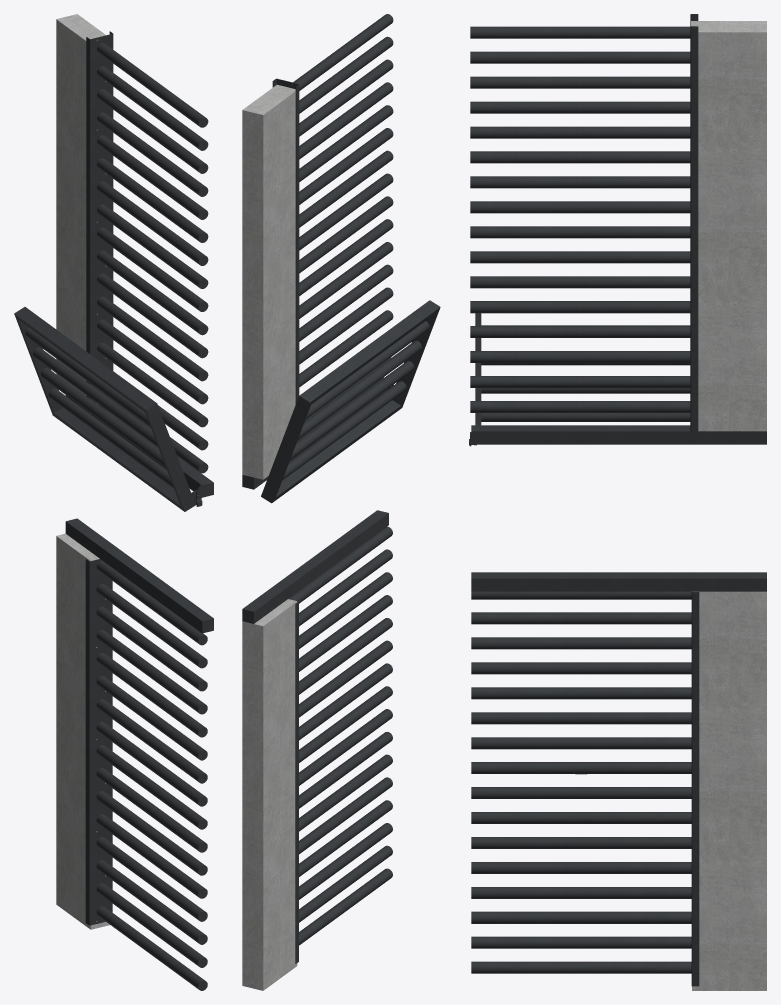
The model's file is puerta-zona-generador-abierta-mwvp69l8.glb.
The picture shows the model from 3 angles, left to right: view 1: azimuth 30°, elevation 25°; view 2: azimuth 150°, elevation 25°; view 3: azimuth 270°, elevation 25°; orthographic projection. The views are drawn at different scales.
Visible parts, largest first — view 1: Cuerpo1_(1), bisagra_(1)_(1), Body1, Body2, Cuerpo1_(1)_(1), Body30, Cuerpo1_(1)_(1)_(6), Cuerpo1_(1)_(1)_(8), Cuerpo1_(1)_(1)_(16), Cuerpo1_(1)_(1)_(1), Cuerpo1_(1)_(1)_(10), Cuerpo1_(1)_(1)_(14) (+11 smaller); view 2: Cuerpo1_(1), Body1, Body2, bisagra_(1)_(1), Body30, Cuerpo1_(1)_(1), Cuerpo1_(1)_(1)_(16), Cuerpo1_(1)_(1)_(10), Cuerpo1_(1)_(1)_(11), Cuerpo1_(1)_(1)_(13), Cuerpo1_(1)_(1)_(1), Cuerpo1_(1)_(1)_(3) (+9 smaller); view 3: Cuerpo1_(1), Body2, Body1, Body30, Body31, bisagra_(1)_(1), Cuerpo1_(1)_(1), Cuerpo1_(1)_(1)_(1), Cuerpo1_(1)_(1)_(3), Cuerpo1_(1)_(1)_(5), Cuerpo1_(1)_(1)_(7), Cuerpo1_(1)_(1)_(9) (+11 smaller).
Part boxes in pixels (x1,y1,x2,y2): Cuerpo1_(1): [85, 559, 207, 990]; bisagra_(1)_(1): [14, 307, 202, 511]; Body1: [56, 533, 109, 929]; Body2: [56, 14, 106, 403]; Cuerpo1_(1)_(1): [86, 31, 113, 413]; Body30: [65, 518, 213, 633]; Cuerpo1_(1)_(1)_(6): [97, 342, 208, 427]; Cuerpo1_(1)_(1)_(8): [97, 319, 208, 404]; Cuerpo1_(1)_(1)_(16): [97, 43, 208, 127]; Cuerpo1_(1)_(1)_(1): [97, 66, 208, 150]; Cuerpo1_(1)_(1)_(10): [97, 296, 208, 381]; Cuerpo1_(1)_(1)_(14): [97, 250, 208, 335]; Cuerpo1_(1): [288, 526, 392, 963]; Body1: [242, 599, 297, 990]; Body2: [242, 84, 295, 479]; bisagra_(1)_(1): [261, 300, 440, 503]; Body30: [242, 510, 388, 623]; Cuerpo1_(1)_(1): [272, 78, 299, 456]; Cuerpo1_(1)_(1)_(16): [291, 14, 393, 90]; Cuerpo1_(1)_(1)_(10): [299, 264, 393, 341]; Cuerpo1_(1)_(1)_(11): [299, 150, 393, 227]; Cuerpo1_(1)_(1)_(13): [299, 173, 393, 250]; Cuerpo1_(1)_(1)_(1): [299, 36, 393, 113]; Cuerpo1_(1)_(1)_(3): [299, 59, 393, 136]; Cuerpo1_(1): [471, 591, 699, 986]; Body2: [691, 21, 766, 431]; Body1: [692, 591, 766, 990]; Body30: [471, 572, 766, 591]; Body31: [471, 425, 766, 444]; bisagra_(1)_(1): [471, 313, 690, 445]; Cuerpo1_(1)_(1): [690, 14, 698, 431]; Cuerpo1_(1)_(1)_(1): [470, 51, 690, 63]; Cuerpo1_(1)_(1)_(3): [470, 76, 690, 88]; Cuerpo1_(1)_(1)_(5): [470, 101, 690, 113]; Cuerpo1_(1)_(1)_(7): [470, 126, 690, 138]; Cuerpo1_(1)_(1)_(9): [470, 151, 690, 163].
Bounding box in the file's own units: 0.5691 × 7.25 × 2.03.
2 materials, 2 textured.
